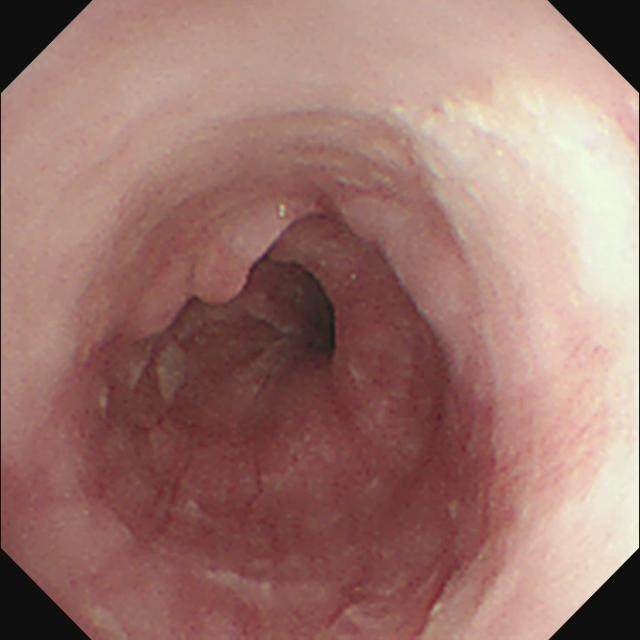A: (197, 259, 254, 313), (135, 289, 189, 345)
E: (314, 277, 347, 361)
J: (204, 555, 344, 626), (131, 347, 190, 403)
U: (585, 183, 640, 281)
